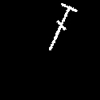double_crochet: (49, 3, 76, 49)
